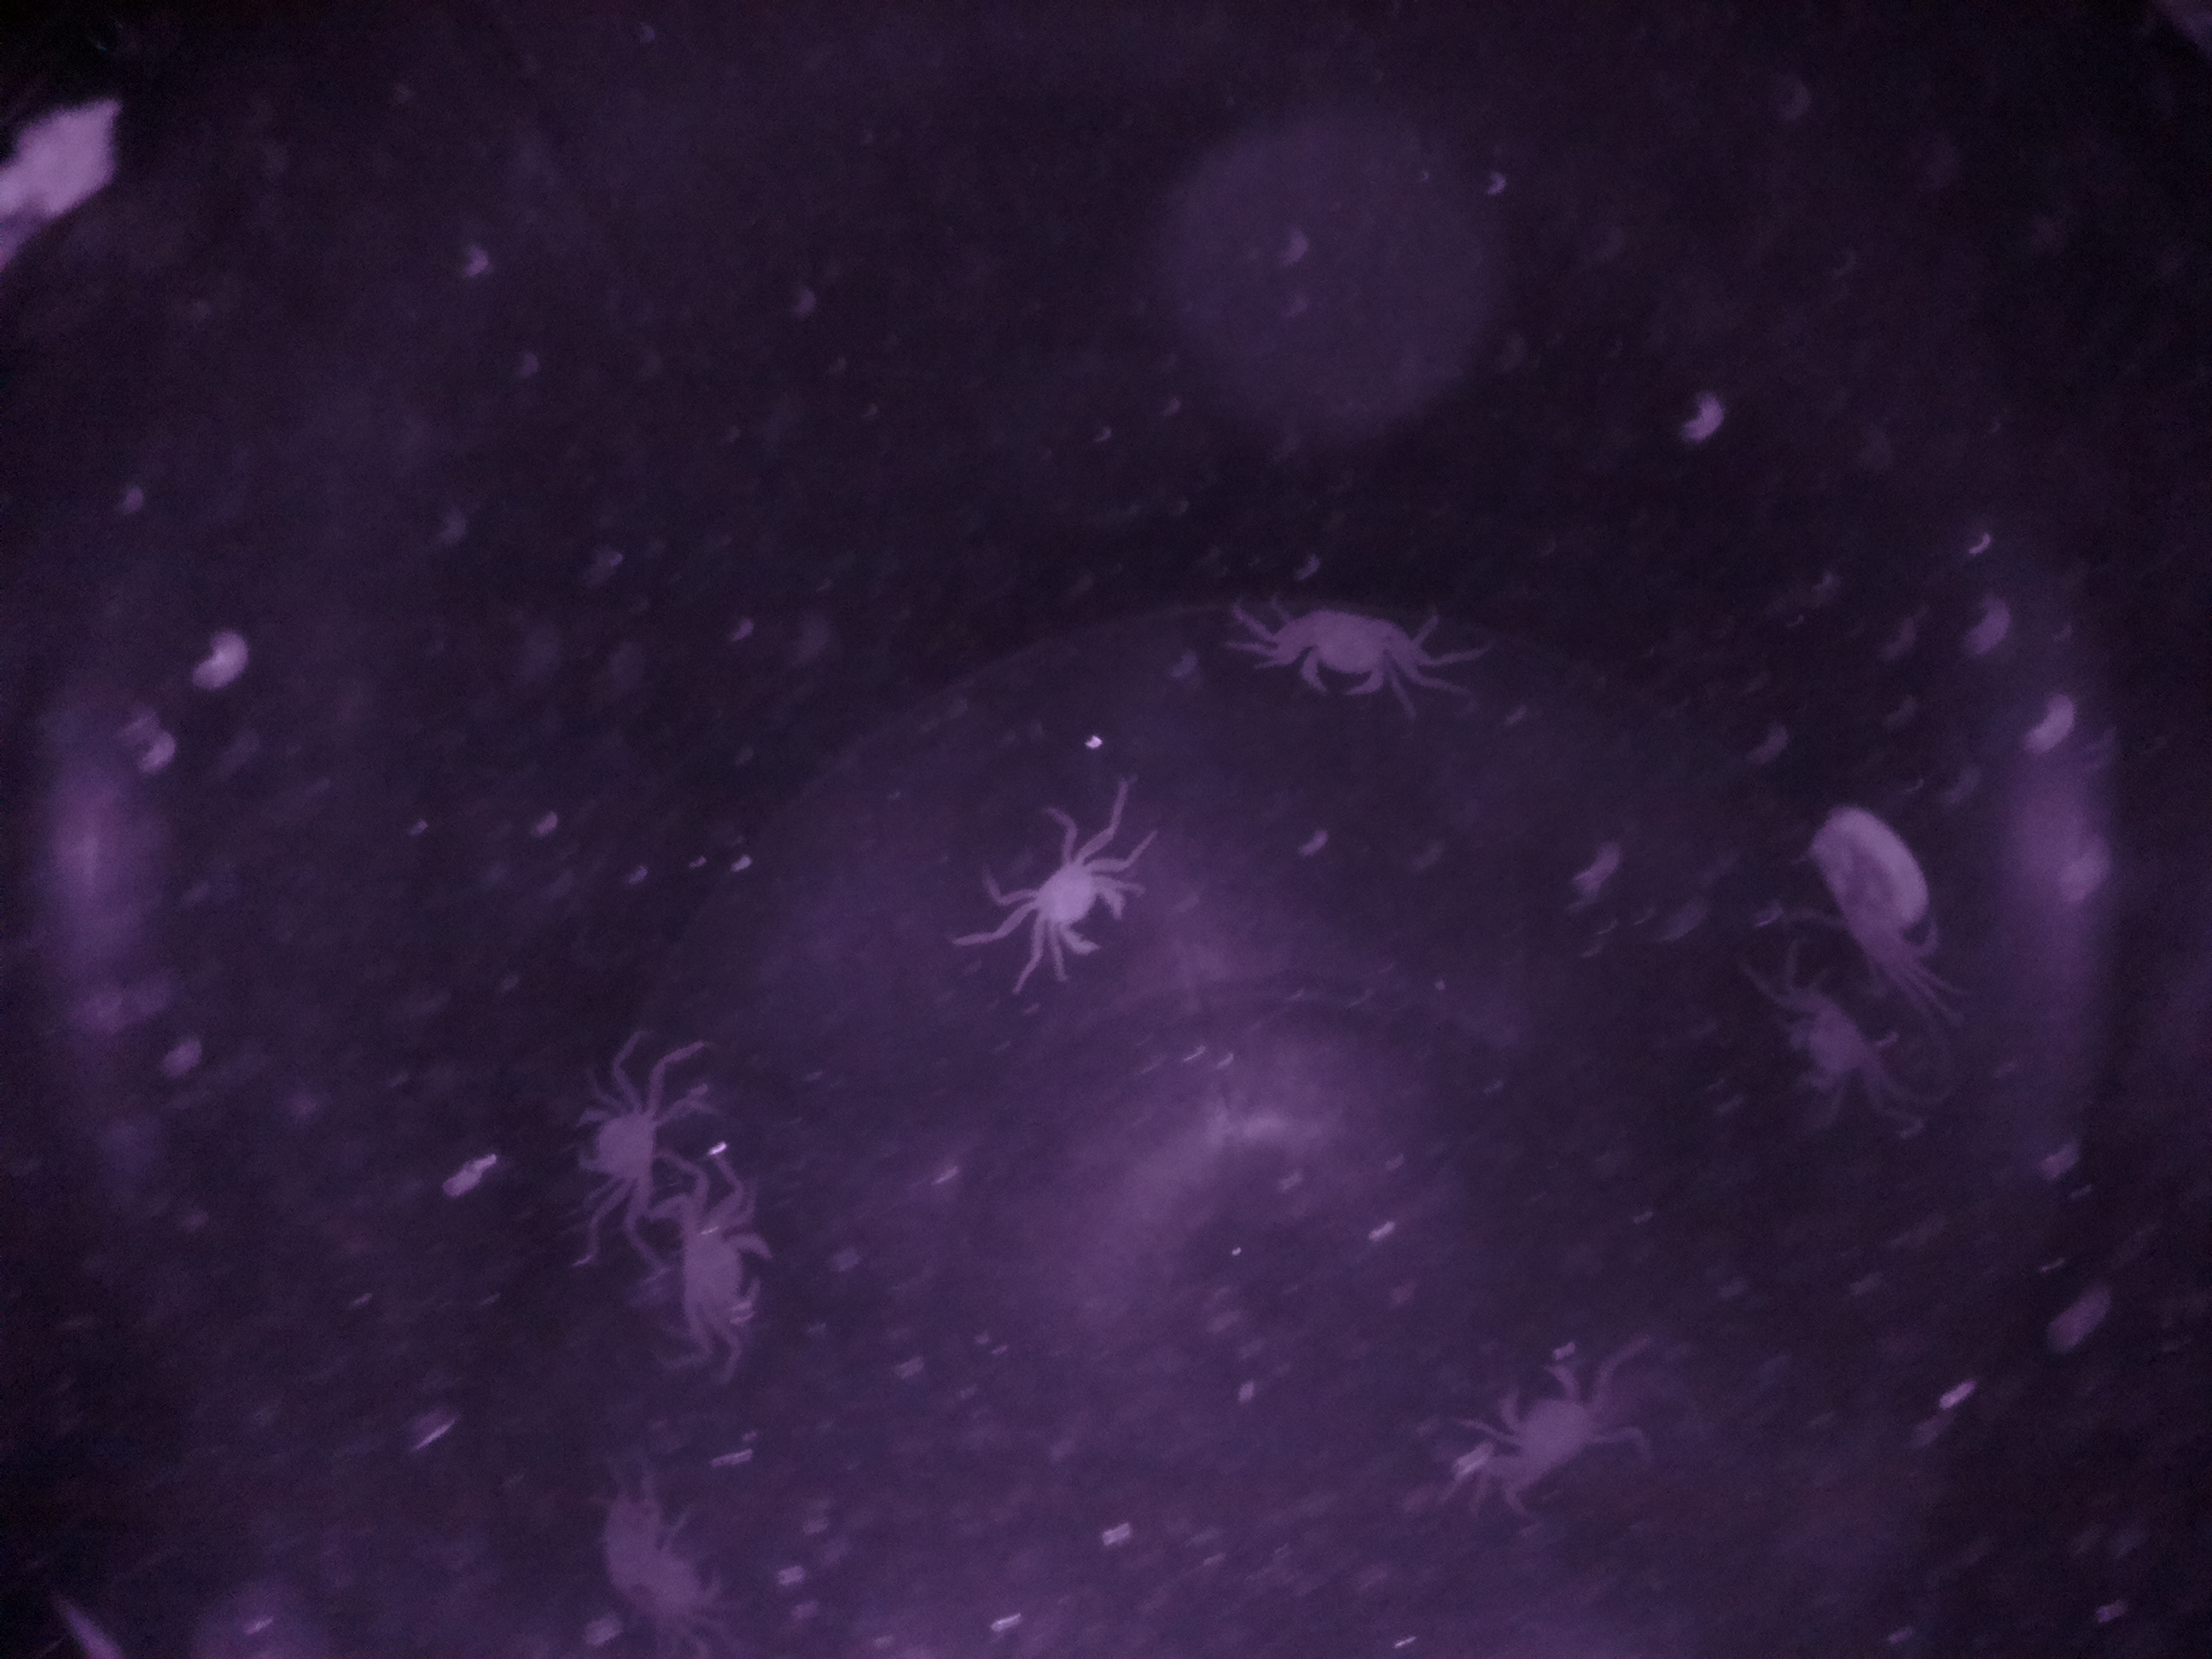Crab: (1484, 1344, 1616, 1521), (1017, 838, 1146, 978), (1275, 577, 1407, 711), (662, 1202, 786, 1338), (550, 1086, 674, 1208)
